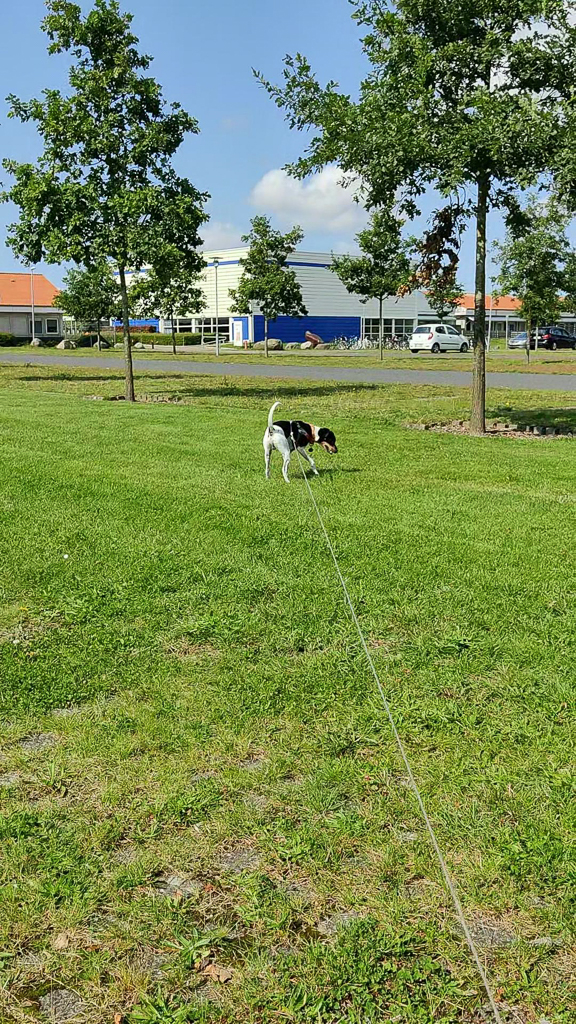Dog: (256, 400, 344, 484)
